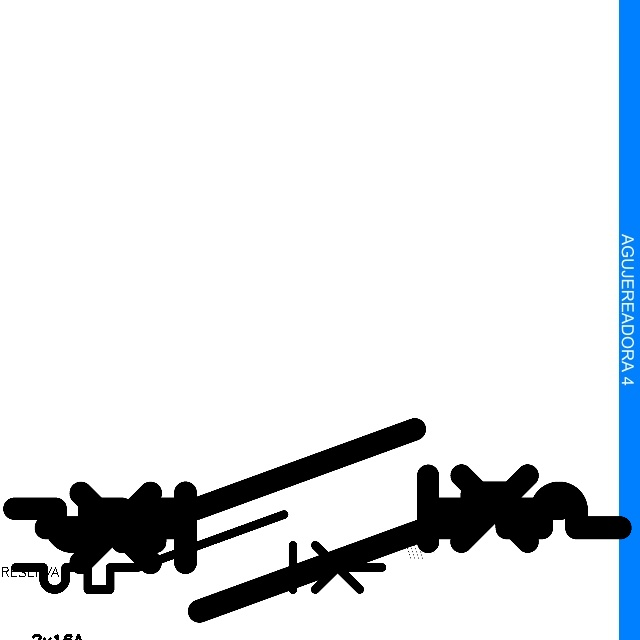interruptor_termomagnetico: (31, 478, 635, 626), (0, 415, 575, 556), (6, 505, 391, 599)
